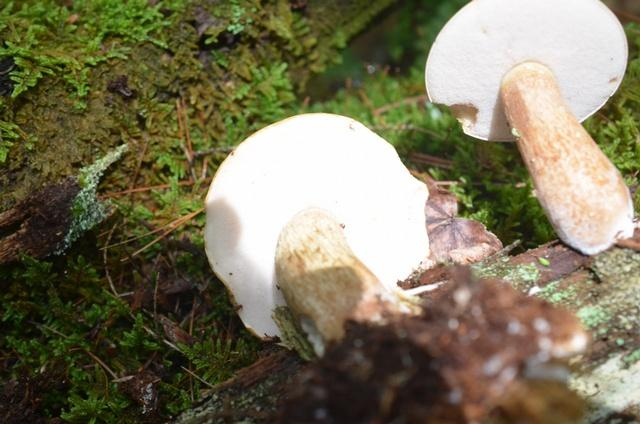Non-edible Mushroom: (201, 110, 432, 352), (423, 0, 635, 256)
